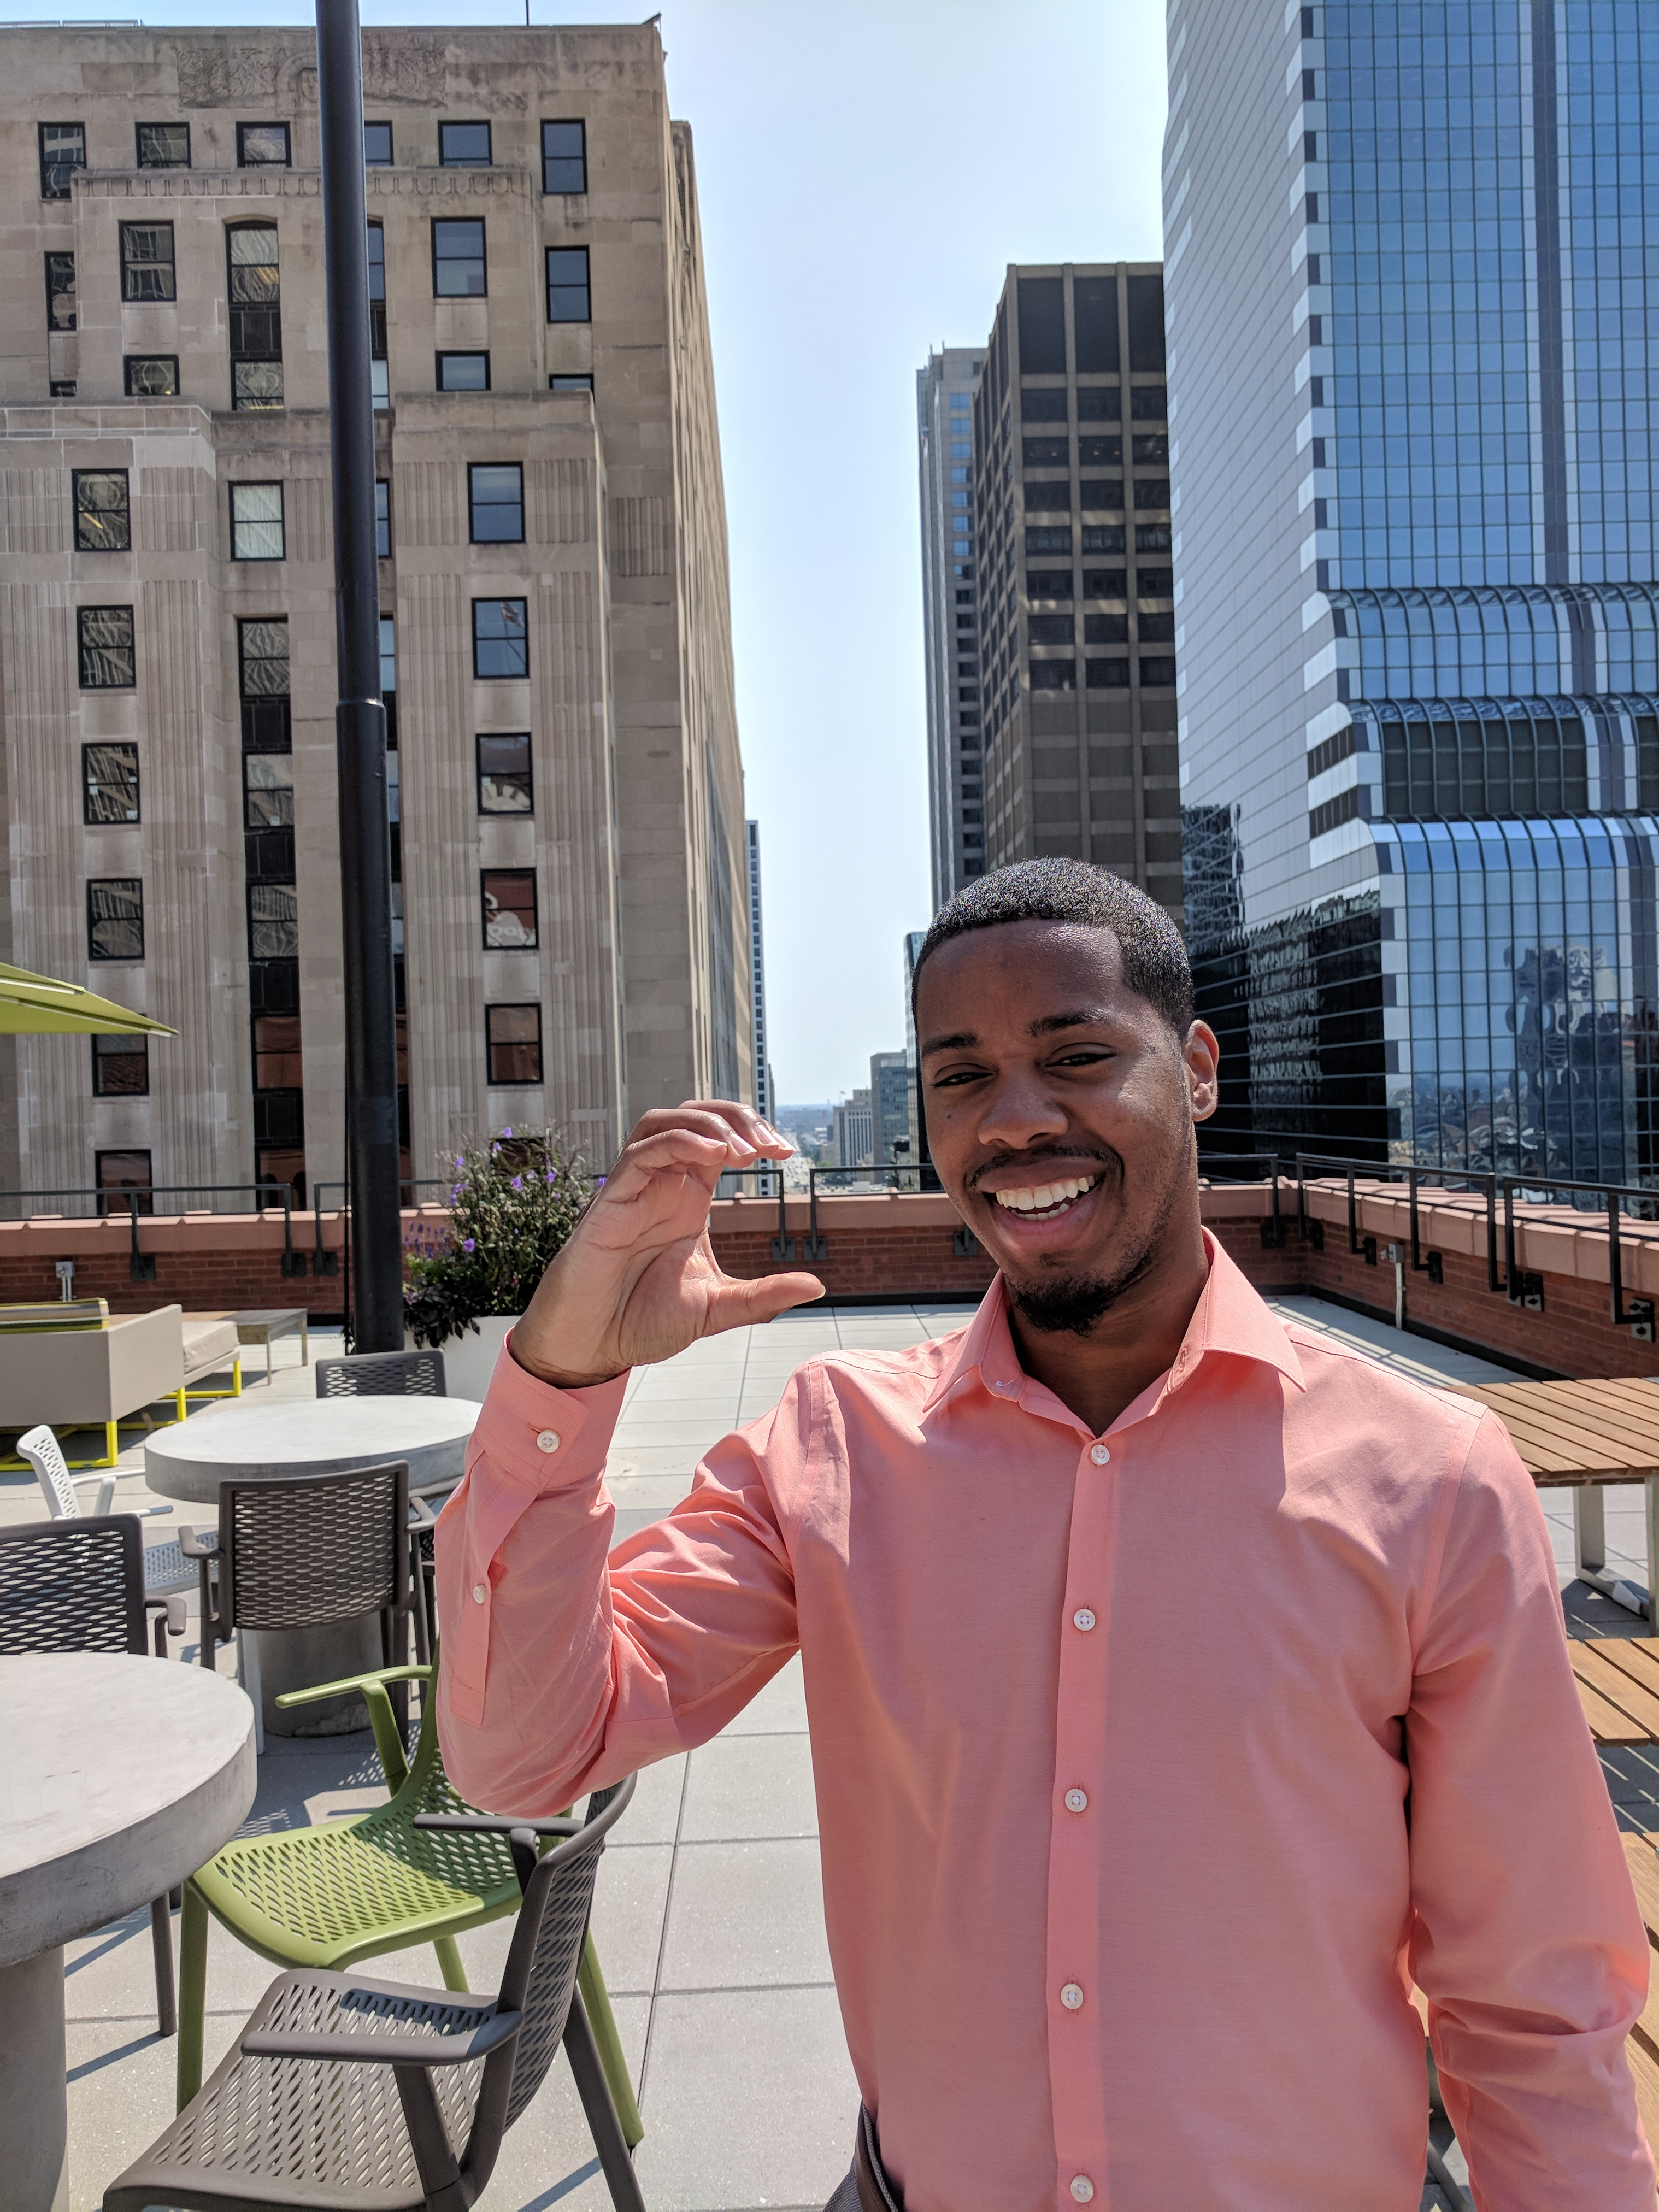c: (558, 1094, 838, 1374)
